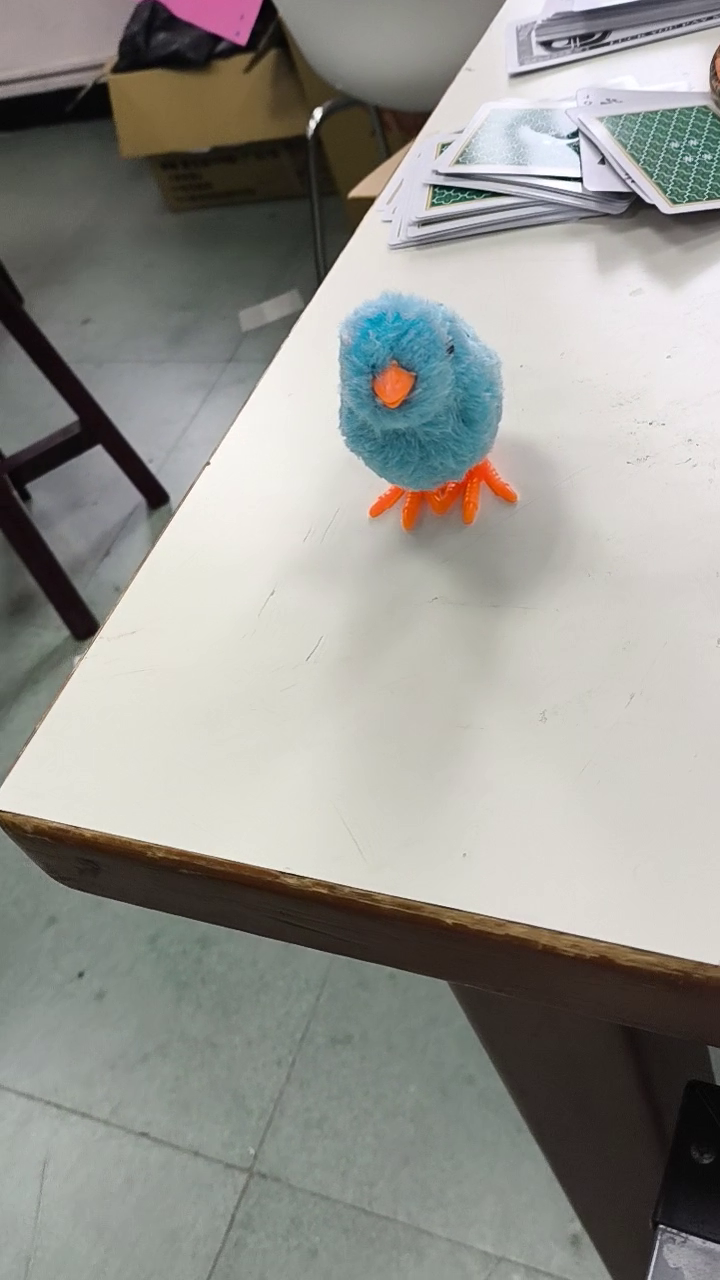blue chicken: (333, 286, 530, 538)
